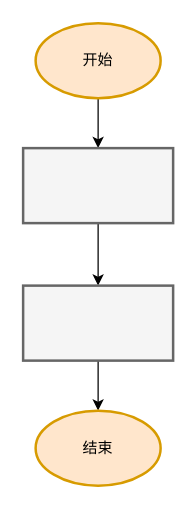
This 195x508 diagram has some shape labels left out. Each missing label, with the centre of its shape:
"点击该关键词" goes at [97,185].
"跳转到对应的链接" goes at [97,322].
